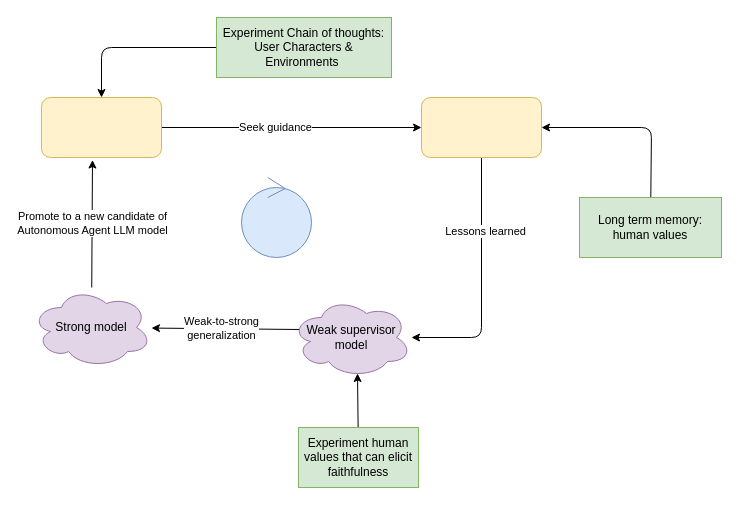
Image size: 739x505. Some labels were removed from this diagram. The shapes that lost their labels are listed below. From the top down, each one's centre as x and y in pixels, then its label:
At (101,127): "ArcMind AI Autonomous Agent".
At (481,127): "Mentor Agent".
At (276,217): "Feedback loop".
